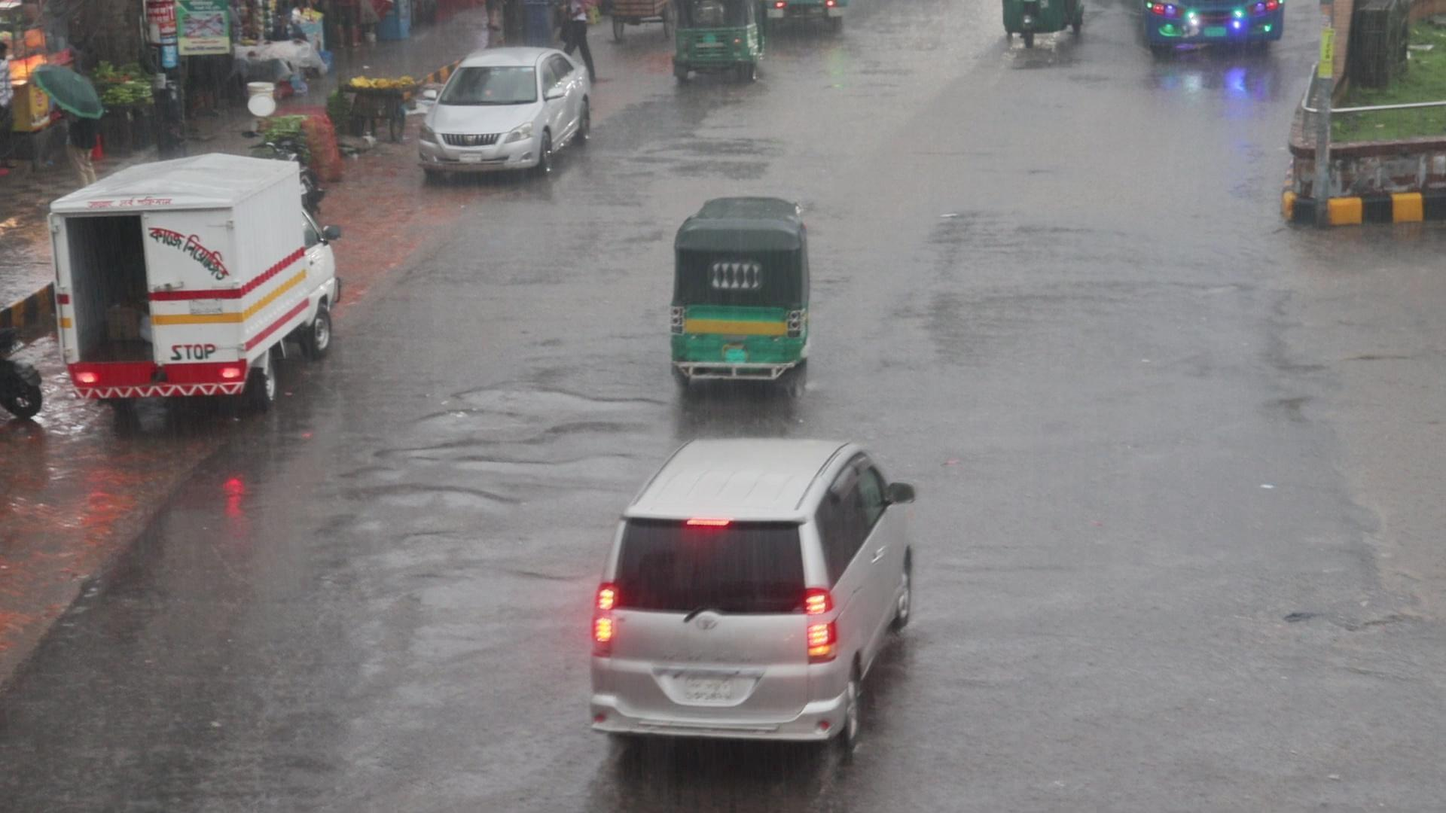Car: (587, 438, 914, 752)
